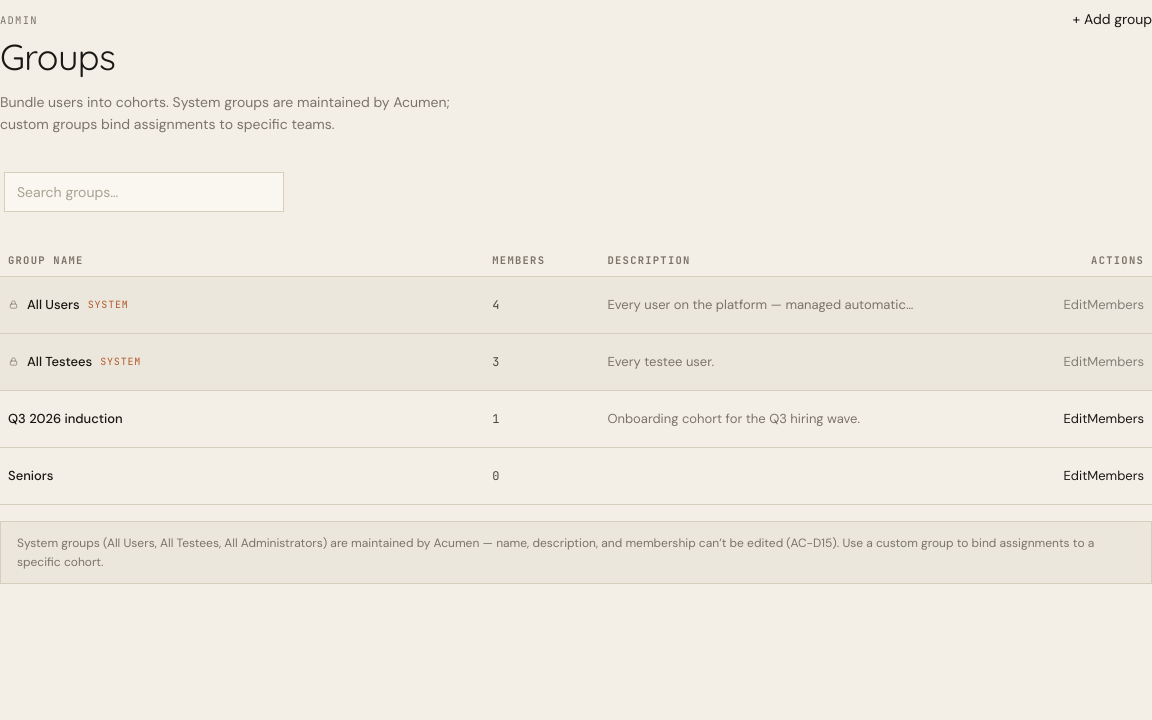
Test: groups list — Add group flow › creates a group via POST + closes modal
Click the button with test id "groups-add-button" at (1112, 20), box 1073,0 -> 1151,40
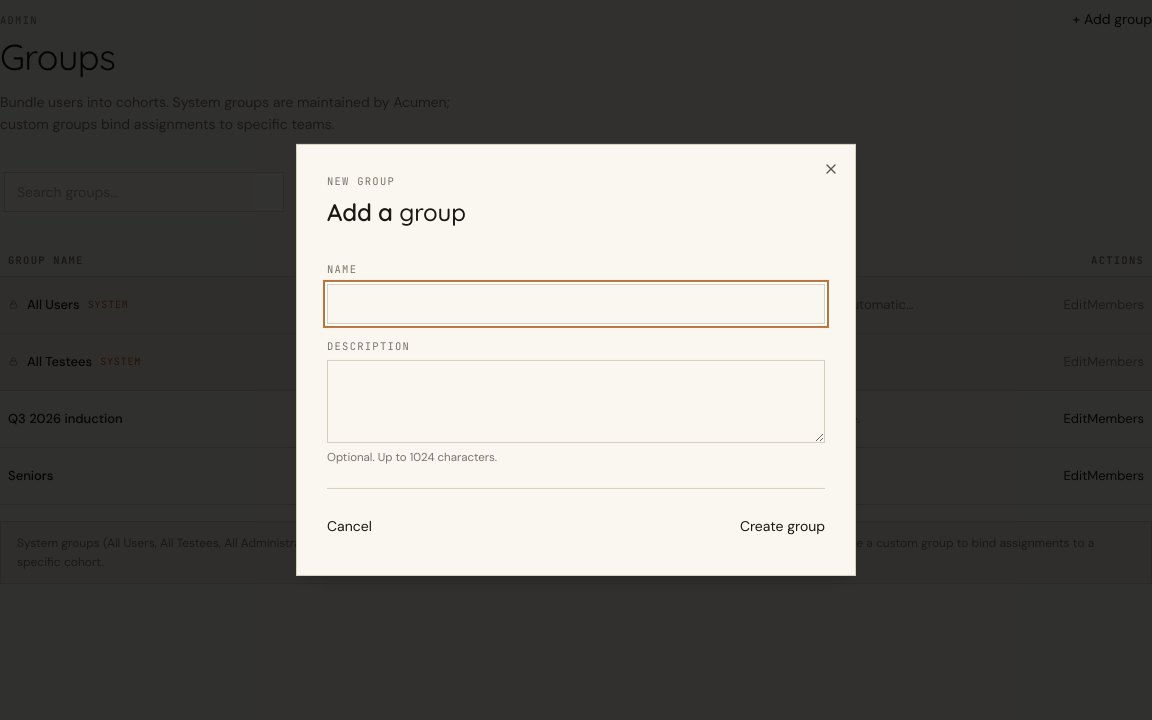
Expected: the form with test id "group-add-form" is shown, 327,261 -> 825,547
Type "Welding crew" into the field with test id "group-add-name" at (576, 304), box 327,284 -> 825,324
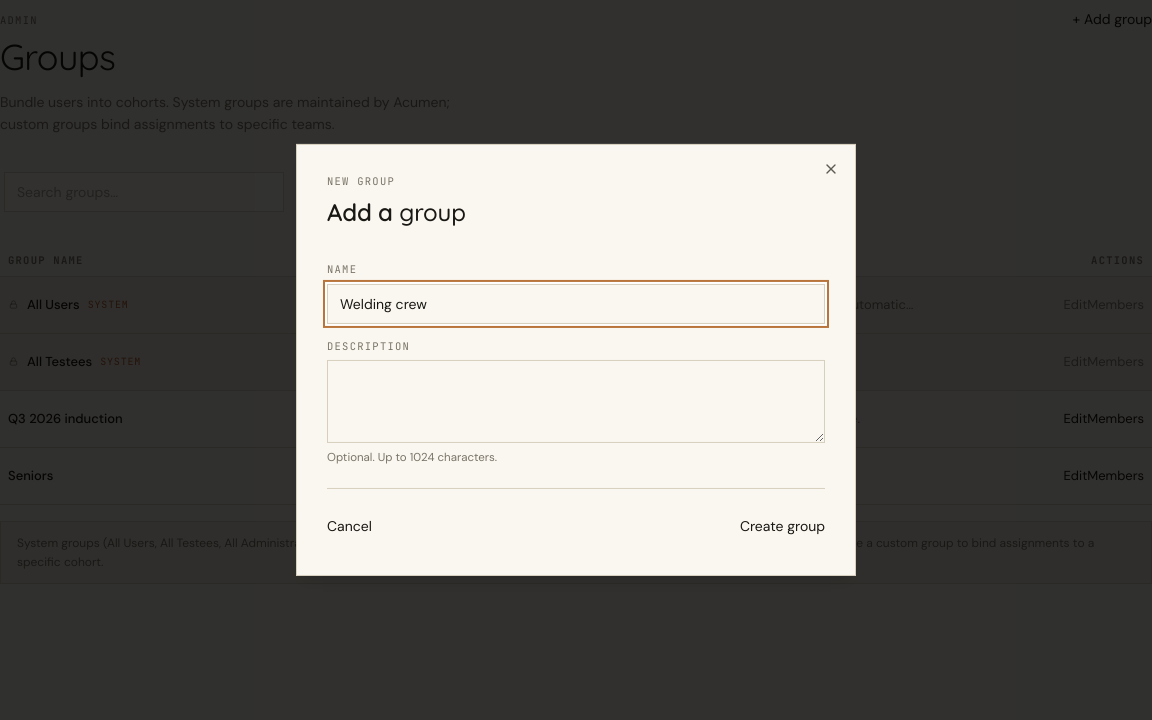
Click the button with test id "group-add-submit" at (782, 527), box 740,507 -> 825,547
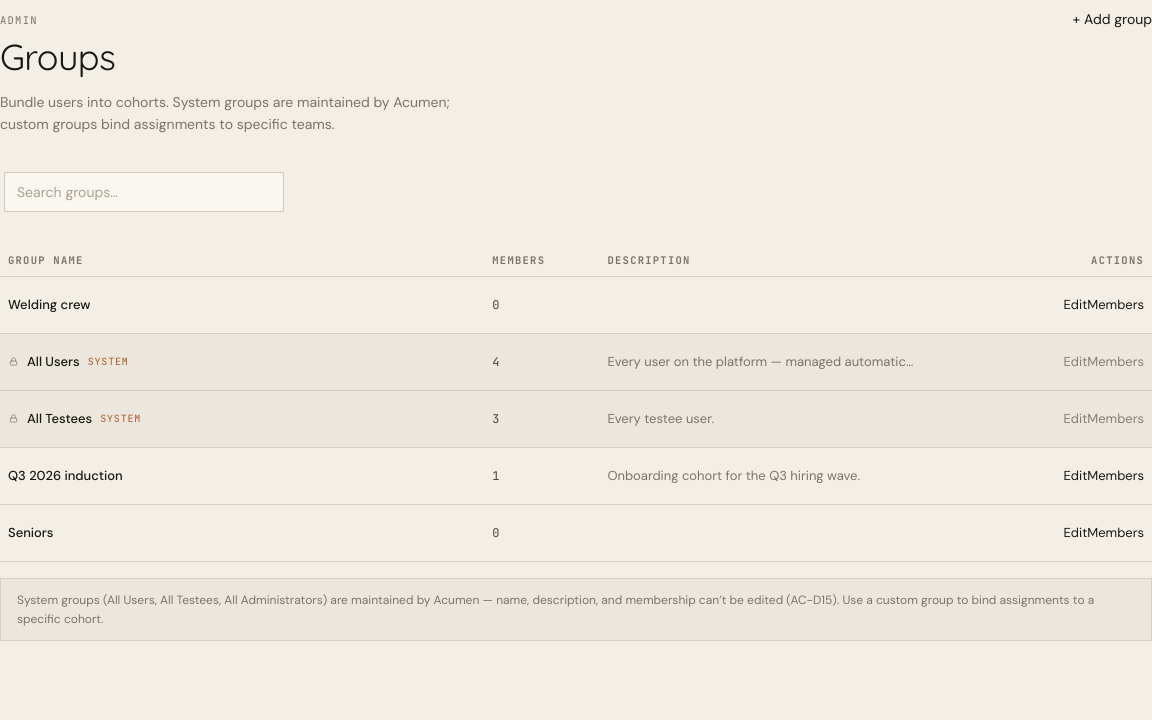
Expected: the form with test id "group-add-form" is gone
